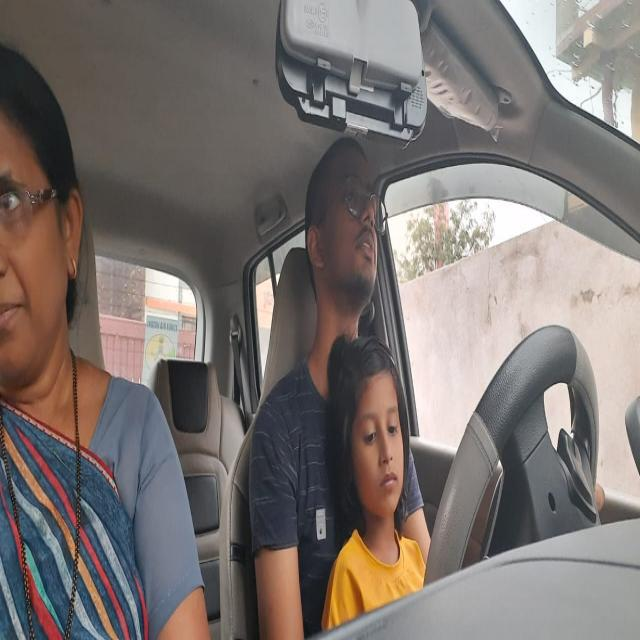child: (327, 341, 425, 528)
person: (0, 38, 86, 396), (306, 134, 390, 322)
